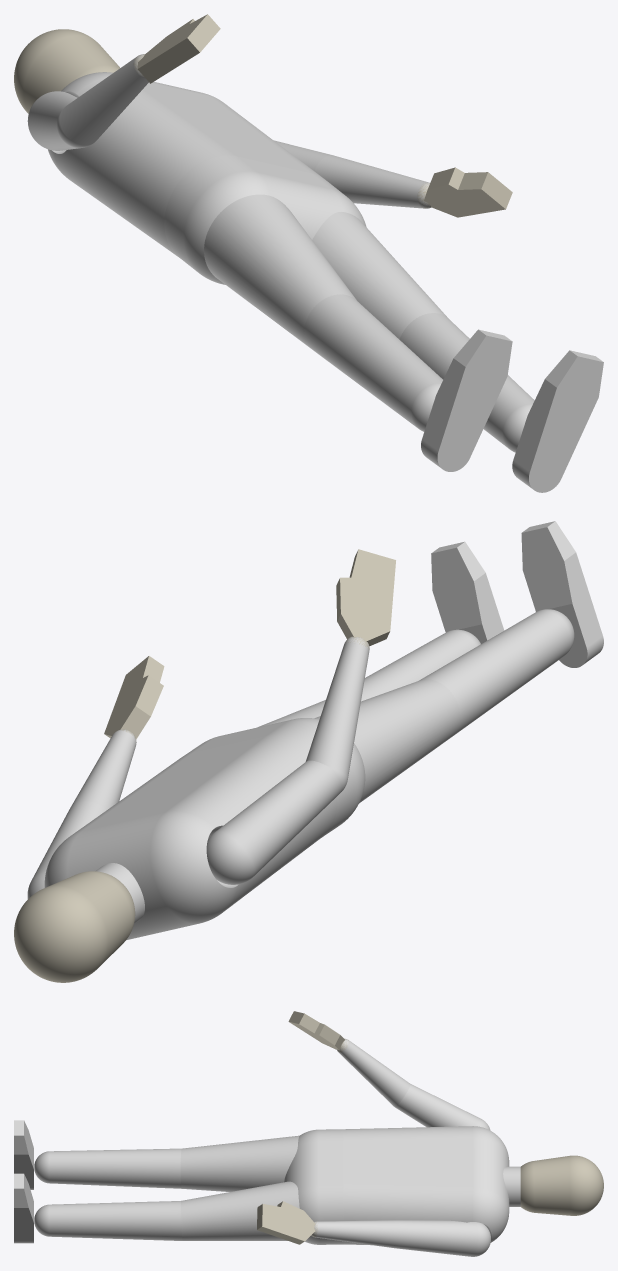
Rendered from homme.glb.
3 renders of one model, top to bottom at view 1: azimuth 30°, elevation 25°; view 2: azimuth 150°, elevation 25°; view 3: azimuth 270°, elevation 25°, orthographic. The views are drawn at different scales.
Parts seen in each view (by area): view 1: Upper Leg__Upper Leg (×2), Torso__Torso, Foot__Foot (×3), Lower Leg__Lower Leg (×2), Pelvis-Abdomen__Pelvis-Abdomen, Lower Arm__Lower Arm (×2), Hand__Hand (×2), Head__Head, Upper Arm__Upper Arm; view 2: Torso__Torso, Foot__Foot (×2), Lower Leg__Lower Leg (×2), Head__Head, Upper Arm__Upper Arm (×2), Upper Leg__Upper Leg, Lower Arm__Lower Arm (×2), Hand__Hand (×2), Pelvis-Abdomen__Pelvis-Abdomen; view 3: Torso__Torso, Lower Leg__Lower Leg (×2), Upper Leg__Upper Leg (×2), Upper Arm__Upper Arm (×2), Pelvis-Abdomen__Pelvis-Abdomen, Head__Head, Lower Arm__Lower Arm (×2), Foot__Foot (×4), Hand__Hand (×2).
Boxes of the visible parts, left/top/right/bottom form: Upper Leg__Upper Leg (×2): left=204, top=194, right=447, bottom=348; Torso__Torso: left=48, top=72, right=322, bottom=256; Foot__Foot (×3): left=411, top=329, right=603, bottom=492; Lower Leg__Lower Leg (×2): left=304, top=294, right=534, bottom=452; Pelvis-Abdomen__Pelvis-Abdomen: left=164, top=155, right=366, bottom=284; Lower Arm__Lower Arm (×2): left=57, top=54, right=431, bottom=208; Hand__Hand (×2): left=133, top=14, right=512, bottom=217; Head__Head: left=14, top=29, right=119, bottom=113; Upper Arm__Upper Arm: left=27, top=91, right=90, bottom=150; Torso__Torso: left=44, top=734, right=337, bottom=940; Foot__Foot (×2): left=431, top=521, right=603, bottom=667; Lower Leg__Lower Leg (×2): left=361, top=609, right=574, bottom=736; Head__Head: left=14, top=871, right=135, bottom=982; Upper Arm__Upper Arm (×2): left=27, top=760, right=347, bottom=899; Upper Leg__Upper Leg: left=315, top=679, right=460, bottom=803; Lower Arm__Lower Arm (×2): left=70, top=637, right=369, bottom=810; Hand__Hand (×2): left=104, top=549, right=395, bottom=741; Pelvis-Abdomen__Pelvis-Abdomen: left=184, top=718, right=365, bottom=836; Torso__Torso: left=342, top=1126, right=520, bottom=1245; Lower Leg__Lower Leg (×2): left=34, top=1148, right=182, bottom=1240; Upper Leg__Upper Leg (×2): left=180, top=1135, right=299, bottom=1240; Upper Arm__Upper Arm (×2): left=394, top=1084, right=490, bottom=1256; Pelvis-Abdomen__Pelvis-Abdomen: left=284, top=1129, right=344, bottom=1244; Head__Head: left=520, top=1155, right=603, bottom=1215; Lower Arm__Lower Arm (×2): left=311, top=1038, right=410, bottom=1248; Foot__Foot (×4): left=14, top=1120, right=50, bottom=1243; Hand__Hand (×2): left=257, top=1011, right=348, bottom=1244.
Bounding box in the file's own units: 0.7464 × 0.6922 × 1.86.
